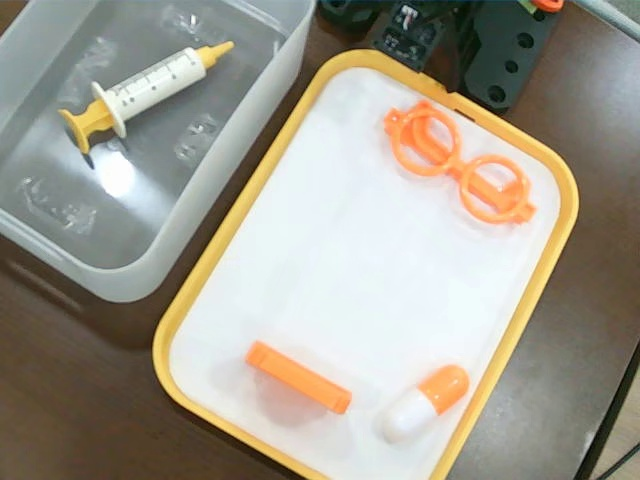pill: (381, 365, 470, 445)
syringe: (58, 39, 235, 153)
